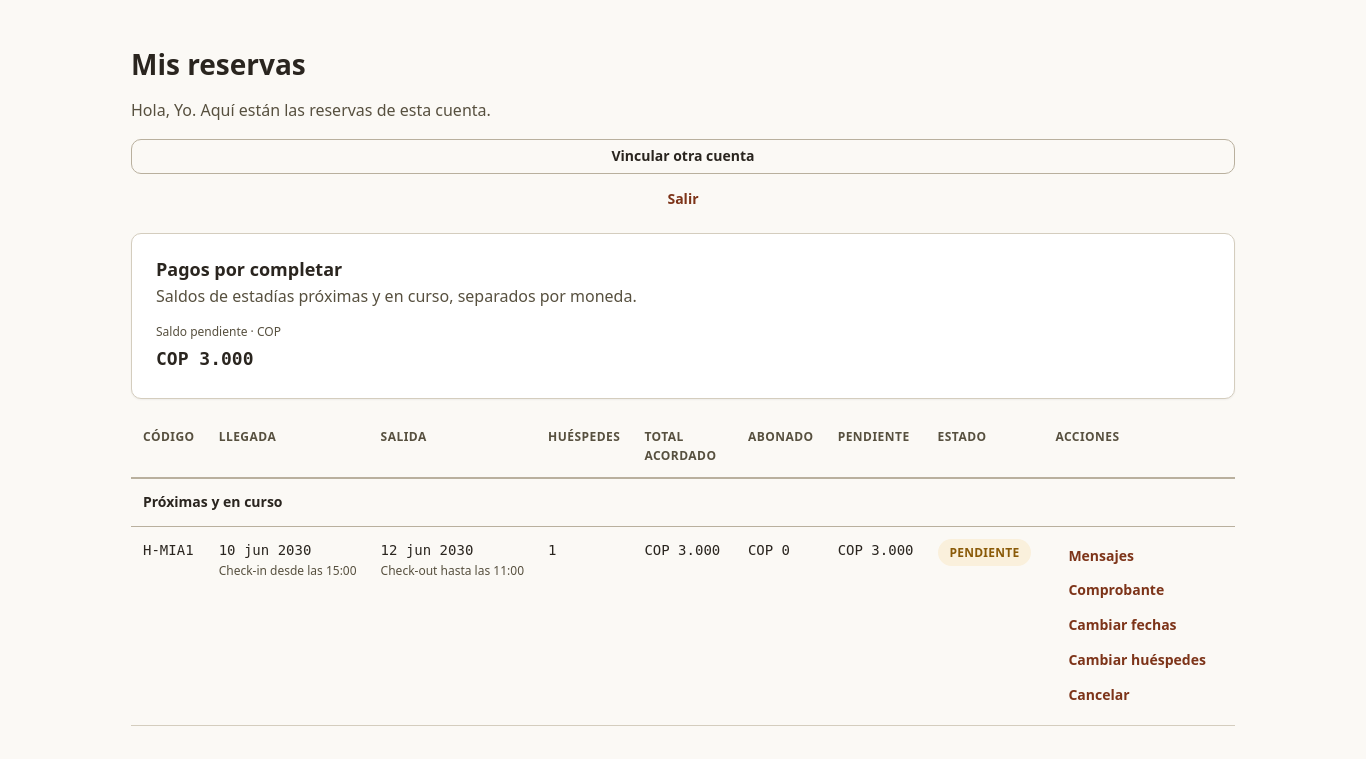
Test: cambio de fechas propio › abre los campos con las fechas que ya tiene la reserva
The width and height of the screenshot is (1366, 759).
Expected: the table named "Reservas de yo@hotel.test" is shown, [131, 415, 1235, 726]
Click the button "Cambiar fechas".
click(1122, 626)  # box [1055, 608, 1190, 643]
(page scrolled)
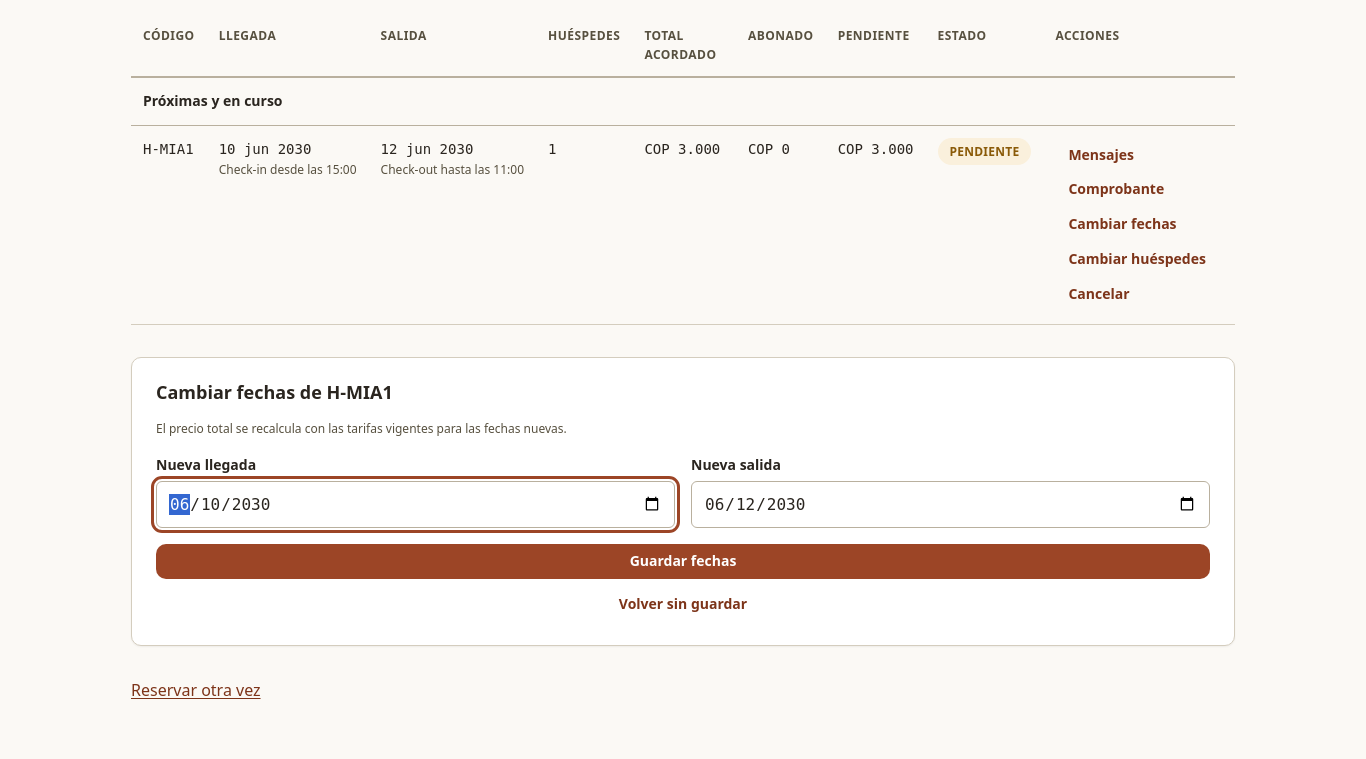
Expected: the date field labelled "Nueva llegada" holds "2030-06-10", [156, 481, 675, 528]
Expected: the date field labelled "Nueva salida" holds "2030-06-12", [691, 481, 1210, 528]
